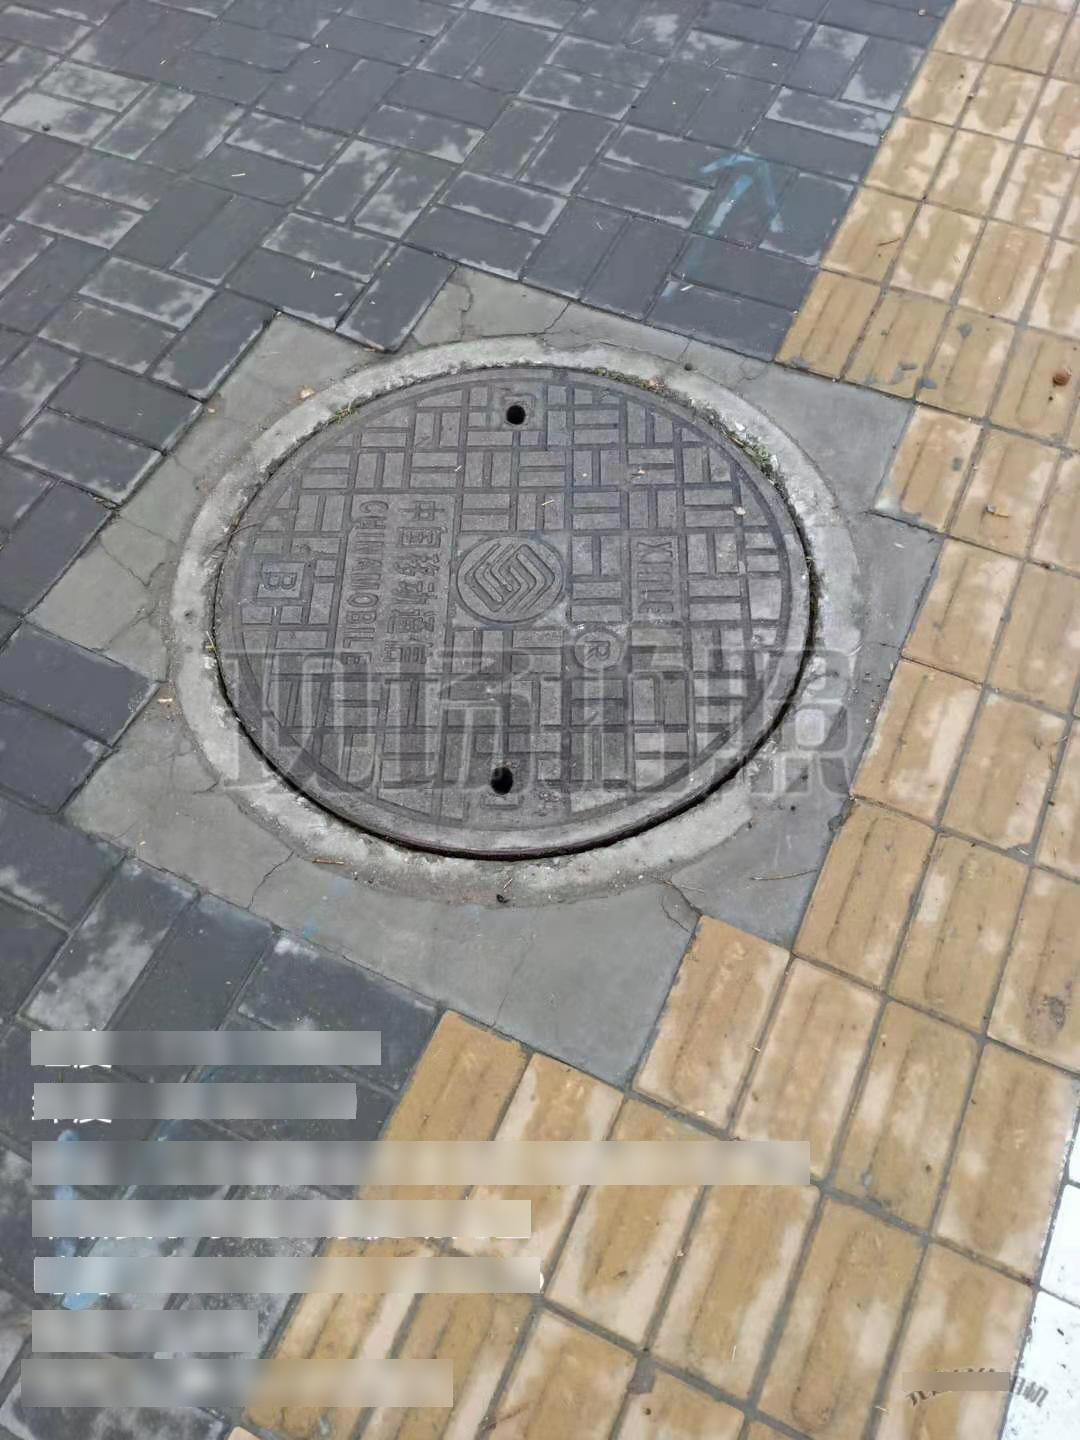good: (167, 336, 864, 907)
